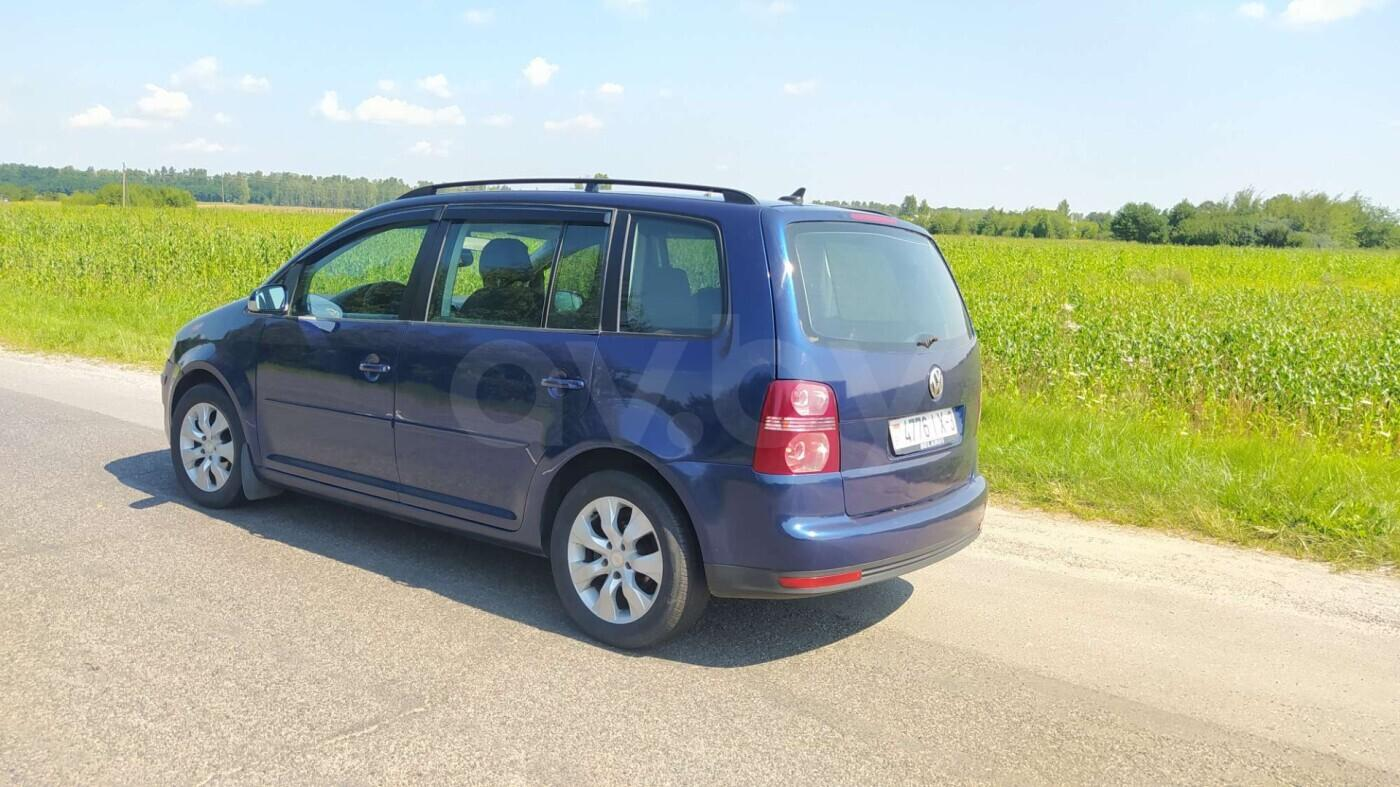Touran_2006-2010: (152, 180, 990, 648)
